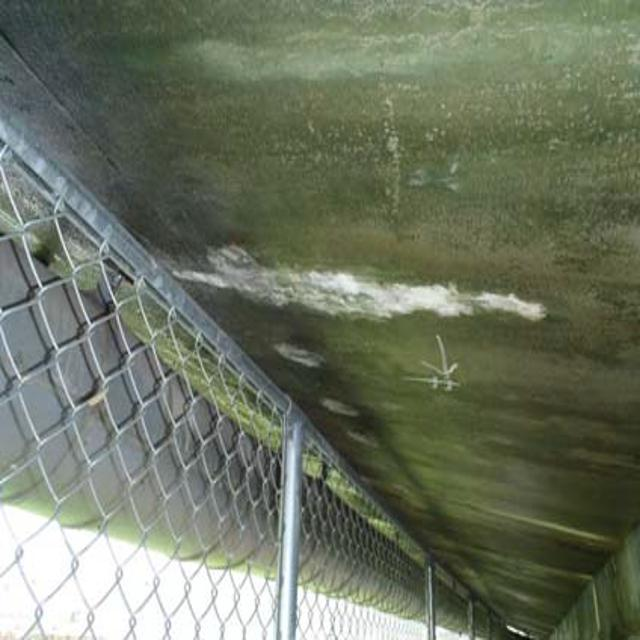freelime: (192, 242, 564, 332)
